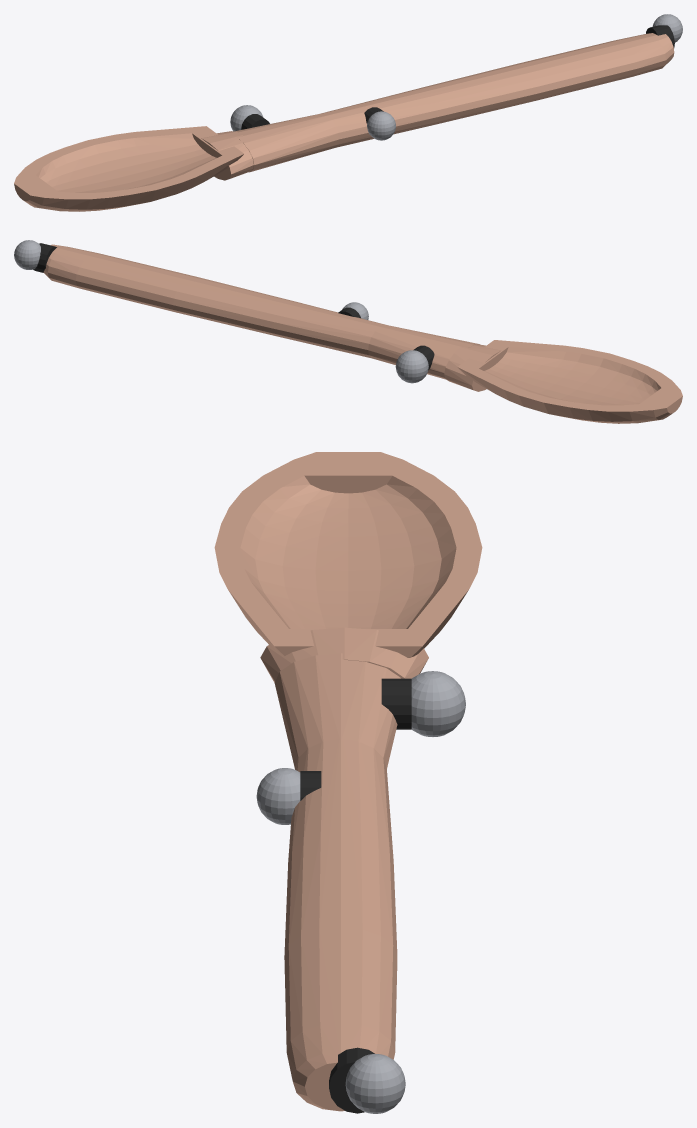
The model's file is wooden_spoon.glb.
3 views of the same model, one above another, from view 1: azimuth 30°, elevation 25°; view 2: azimuth 150°, elevation 25°; view 3: azimuth 270°, elevation 25° (orthographic). The views are drawn at different scales.
Visible parts, largest first — view 1: geometry_0; view 2: geometry_0; view 3: geometry_0.
Boxes of the visible parts, bbox=[...] form: geometry_0: bbox=[14, 14, 682, 211]; geometry_0: bbox=[14, 240, 682, 423]; geometry_0: bbox=[214, 452, 482, 1113].
Bounding box in the file's own units: 0.2923 × 0.0164 × 0.052.
